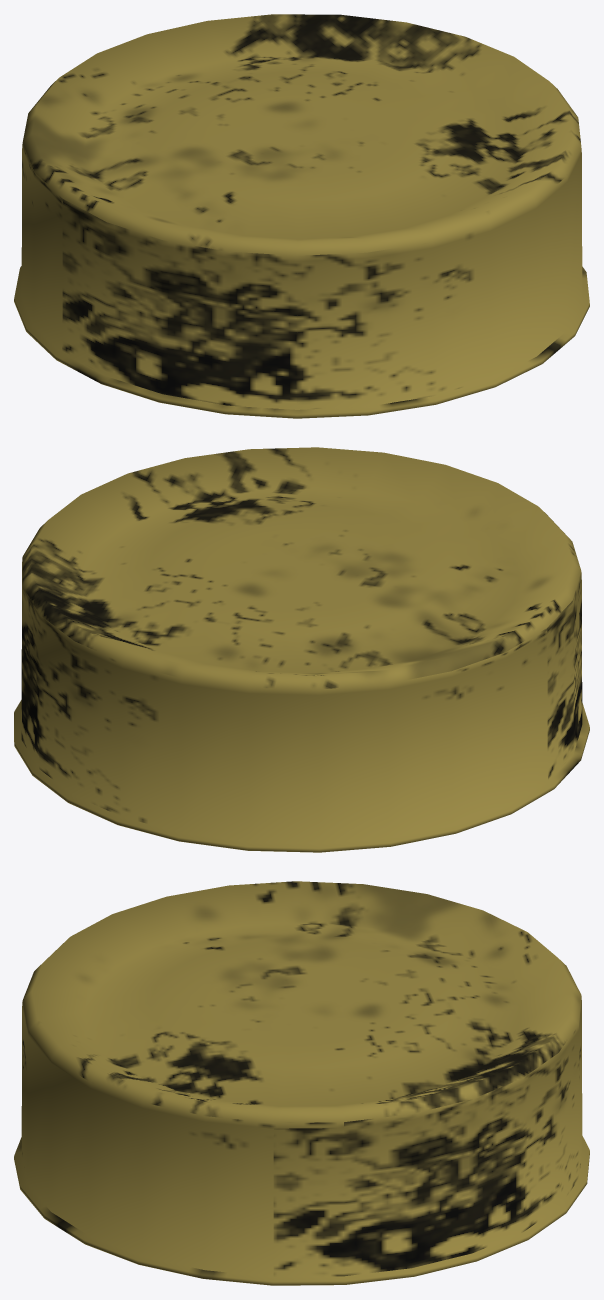
Rendered from YunaCan_close.fbx.
The picture shows the model from 3 angles, top to bottom: view 1: azimuth 30°, elevation 25°; view 2: azimuth 150°, elevation 25°; view 3: azimuth 270°, elevation 25°; orthographic projection.
Parts seen in each view (by area): view 1: Cylinder002; view 2: Cylinder002; view 3: Cylinder002.
Part boxes in pixels (box(x1,y1,x2,y2)): Cylinder002: box(14, 14, 589, 418); Cylinder002: box(14, 447, 589, 852); Cylinder002: box(14, 881, 589, 1285).
Size of the model in its own units: 35.14 by 11.39 by 35.15.
